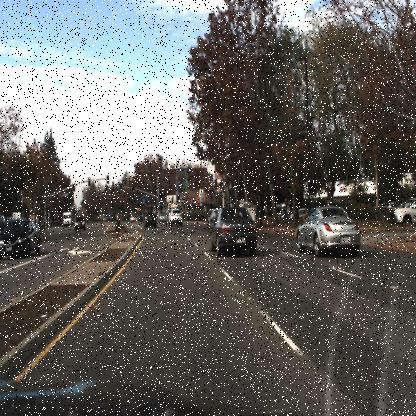car: (289, 206, 362, 257), (203, 203, 257, 259), (0, 216, 42, 261), (164, 208, 184, 226), (71, 214, 87, 233), (144, 211, 160, 230)
truck: (59, 210, 71, 226)
